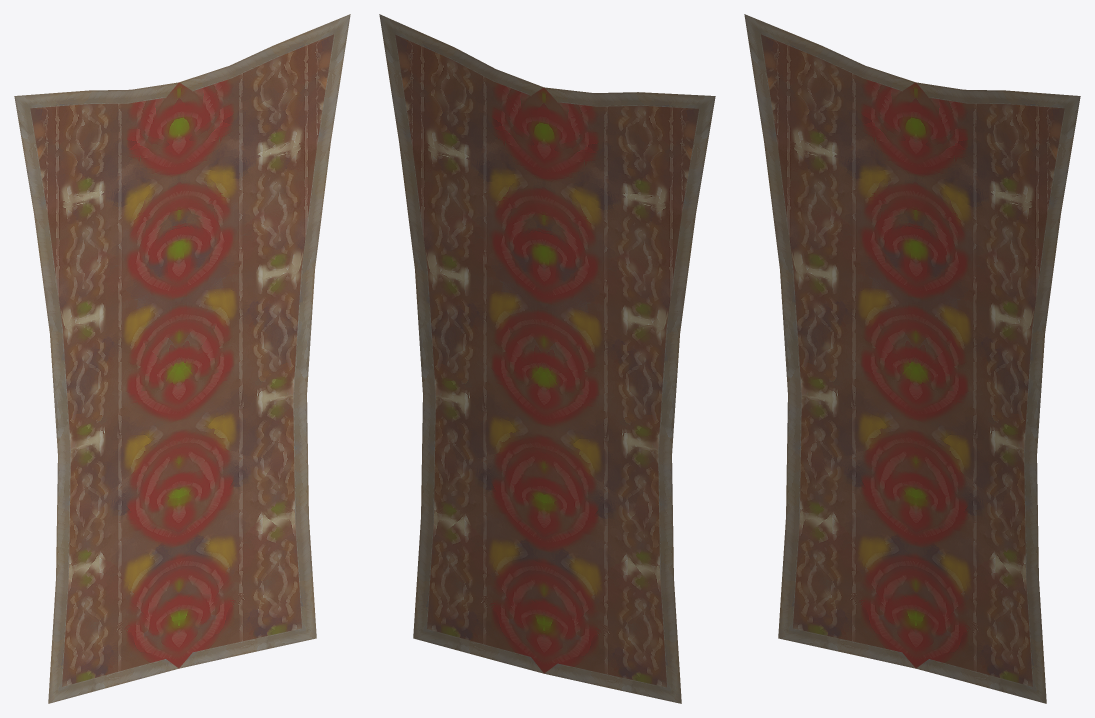
The model's file is SM_Rangkiang_Cloth.fbx.
3 views of the same model, side by side, from view 1: azimuth 30°, elevation 25°; view 2: azimuth 150°, elevation 25°; view 3: azimuth 330°, elevation 25° (orthographic).
Visible parts, largest first — view 1: SM_Rangkiang_Cloth; view 2: SM_Rangkiang_Cloth; view 3: SM_Rangkiang_Cloth.
Part boxes in pixels (x1=…): SM_Rangkiang_Cloth: x1=14, y1=14, x2=350, y2=703; SM_Rangkiang_Cloth: x1=379, y1=14, x2=715, y2=703; SM_Rangkiang_Cloth: x1=744, y1=14, x2=1080, y2=703.
Bounding box in the file's own units: 333 × 583 × 5.9.
